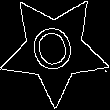O_S: (27, 18, 82, 81)
